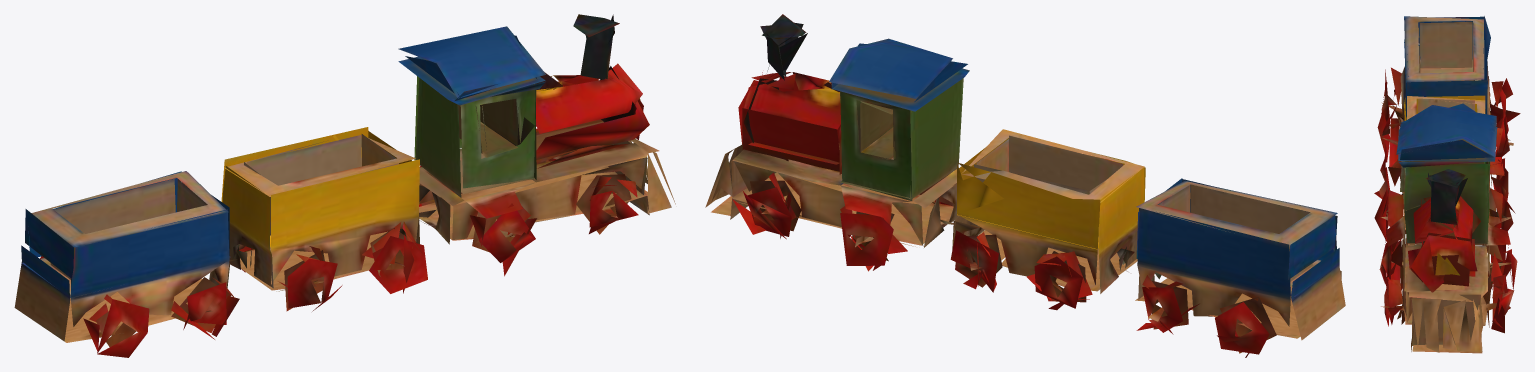
File: kinder_holzeisenbahn_lo.glb
3 renders of one model, left to right at view 1: azimuth 30°, elevation 25°; view 2: azimuth 150°, elevation 25°; view 3: azimuth 270°, elevation 25°, orthographic. The views are drawn at different scales.
Parts seen in each view (by area): view 1: Prop; view 2: Prop; view 3: Prop.
Part boxes in pixels (bbox=[...]): Prop: bbox=[14, 14, 675, 357]; Prop: bbox=[705, 14, 1345, 357]; Prop: bbox=[1374, 16, 1520, 353].
Size of the model in its own units: 3.28 by 1.04 by 0.8057.
1 material, 1 textured.
